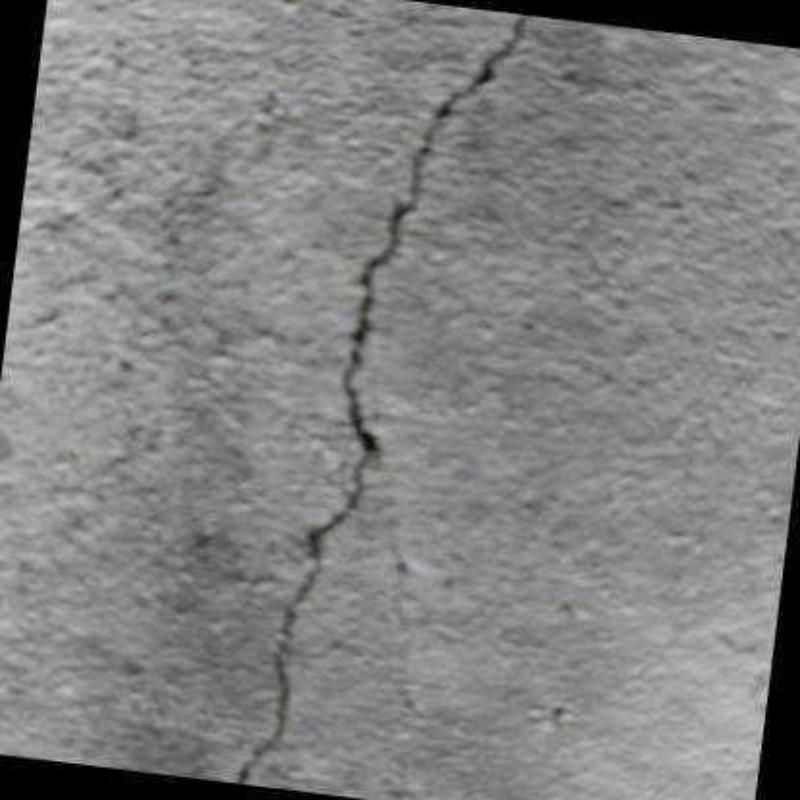pothole: (235, 12, 531, 784)
